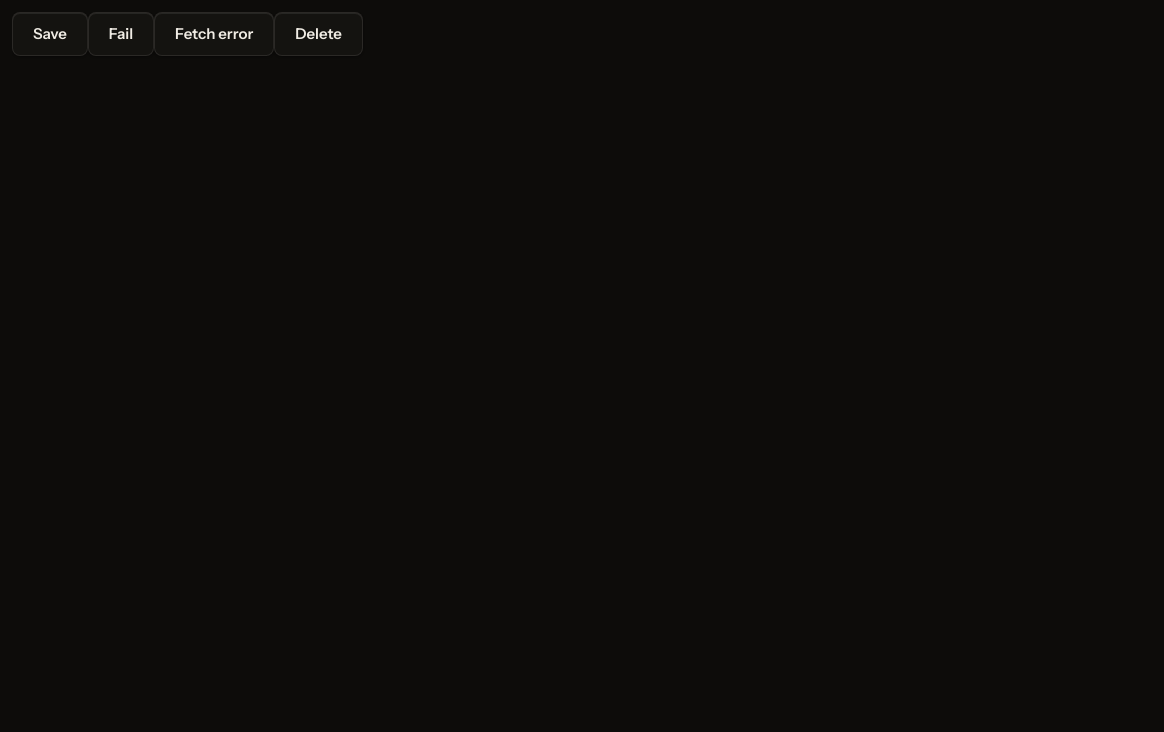
it: toasts › formats fetch failures the way the vanilla app does
The width and height of the screenshot is (1164, 732).
Click the button "Fetch error".
click(214, 34)  # box left=154, top=12, right=274, bottom=56
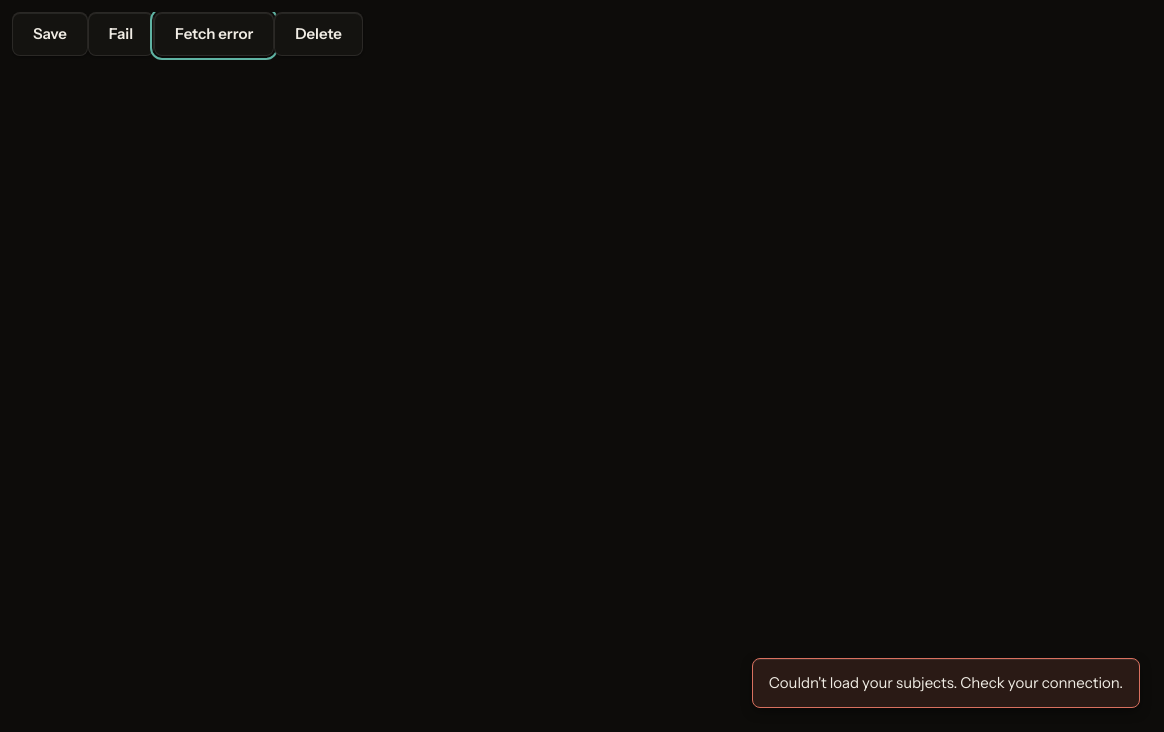
Expected: the message reads "Couldn't load your subjects. Check your connection.", left=769, top=673, right=1123, bottom=692
